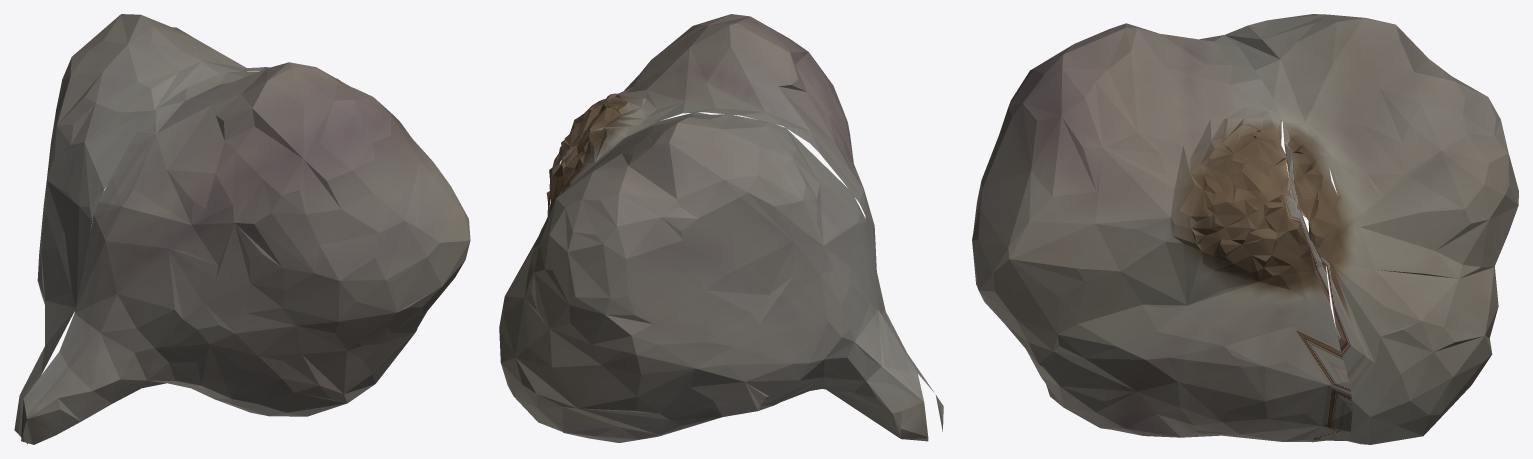
The model's file is food_produce_garlic_b01.glb.
3 views of the same model, side by side, from view 1: azimuth 30°, elevation 25°; view 2: azimuth 150°, elevation 25°; view 3: azimuth 270°, elevation 25° (orthographic). The views are drawn at different scales.
Parts seen in each view (by area): view 1: geometry_0; view 2: geometry_0; view 3: geometry_0.
Boxes of the visible parts, <box> form: geometry_0: <box>14,14,470,444</box>; geometry_0: <box>499,14,943,442</box>; geometry_0: <box>972,14,1518,444</box>.
Size of the model in its own units: 0.3739 by 0.3345 by 0.42.
Materials: 1 (1 with a texture image).
